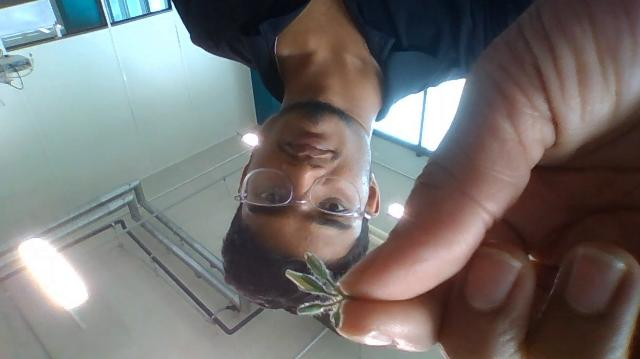Flower Bud: (284, 269, 331, 295), (305, 254, 334, 285), (296, 303, 327, 316), (331, 305, 344, 330)
